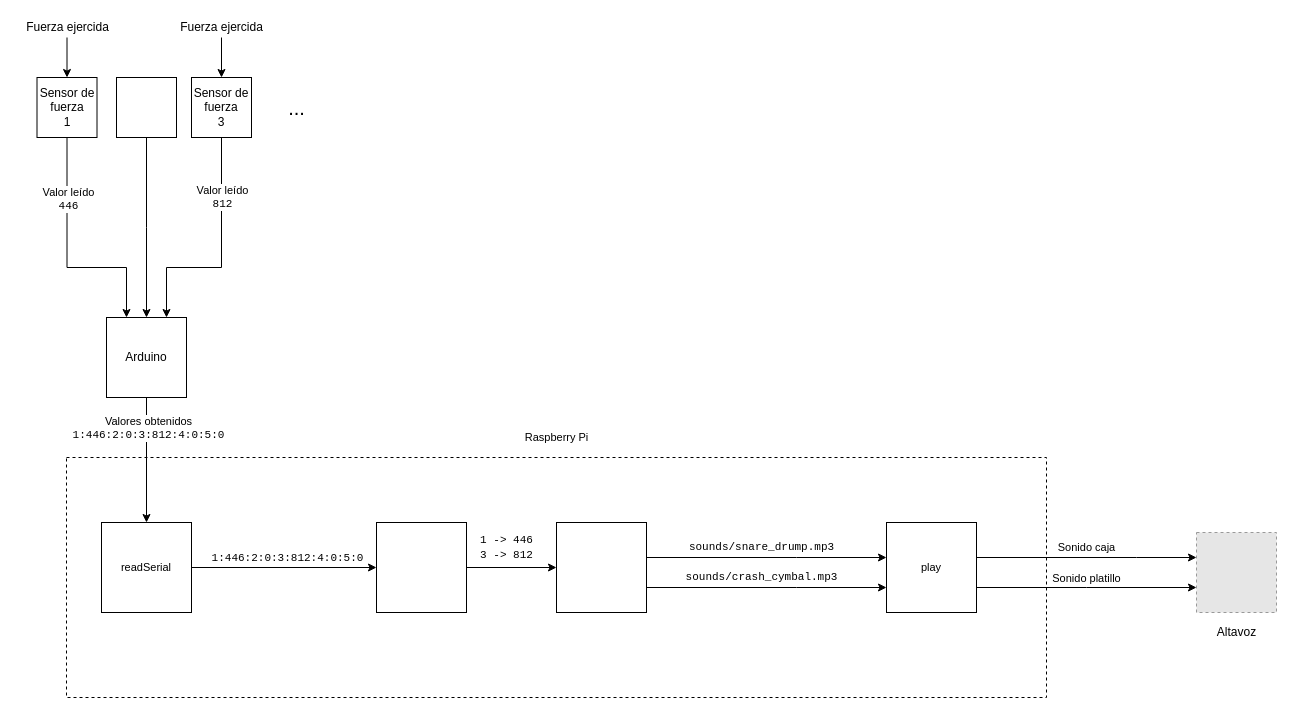
This 1294x715 diagram has some shape labels left out. Grey dashed boxes stand in for pictures. Each missing label, with the centre of its shape:
"parseInstruments" belongs at pixel 421 567.
"PressToPlay" belongs at pixel 601 567.
"Sensor de fuerza 2" belongs at pixel 146 107.
